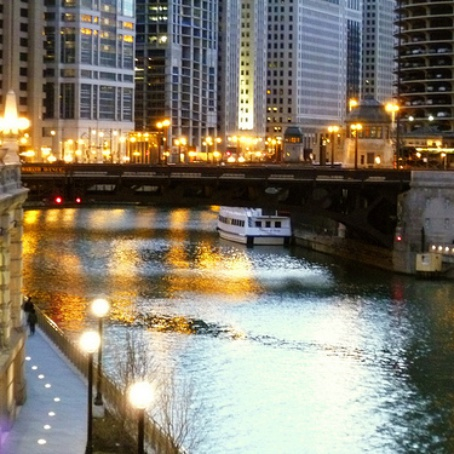bridge: (1, 125, 404, 243)
building: (1, 1, 137, 149), (141, 1, 235, 145), (246, 1, 345, 135), (342, 1, 395, 126)
light pole: (87, 289, 117, 399), (78, 331, 103, 454)
river: (25, 204, 454, 454)
